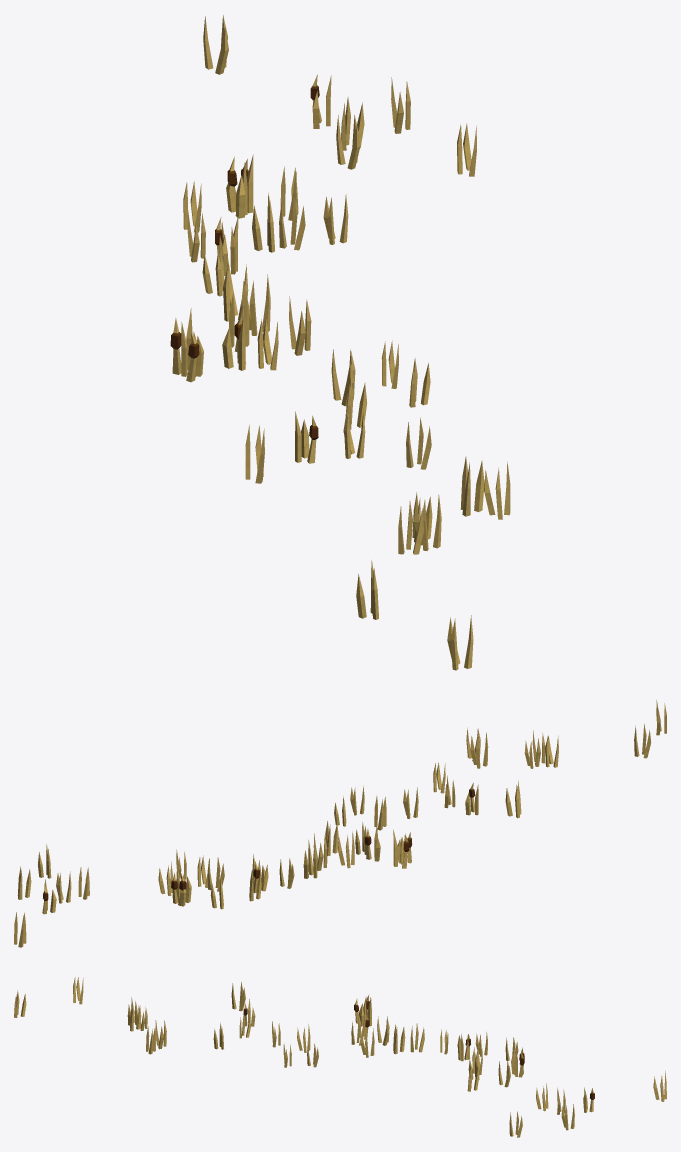
File: Grasses3.gltf
The picture shows the model from 3 angles, top to bottom: view 1: azimuth 30°, elevation 25°; view 2: azimuth 150°, elevation 25°; view 3: azimuth 270°, elevation 25°; orthographic projection. The views are drawn at different scales.
Parts seen in each view (by area): view 1: no part large enough to name; view 2: Reed_with - copy.016; view 3: no part large enough to name.
Boxes of the visible parts, x1,y1,x2,y2 form: Reed_with - copy.016: (393,829,409,868).
Size of the model in its own units: 11.38 by 1.63 by 23.16.
Materials: 2 (2 with a texture image).
